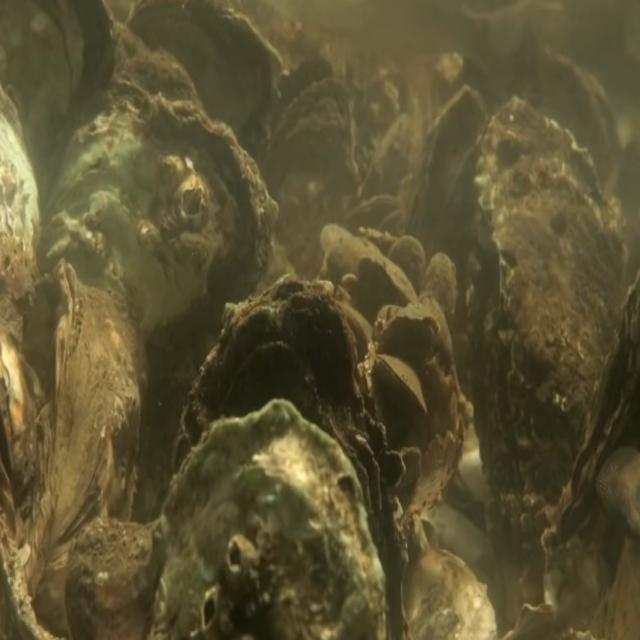Oyster-Closed: (44, 90, 278, 503), (173, 273, 405, 640), (465, 95, 625, 538), (146, 397, 384, 640), (541, 262, 640, 590), (373, 351, 428, 415), (382, 312, 440, 359)
Oyster-Indeterminate: (27, 257, 145, 640), (410, 84, 490, 315), (358, 250, 418, 304), (387, 233, 427, 304), (424, 250, 457, 325)
Oyster-Open: (258, 53, 354, 265)
